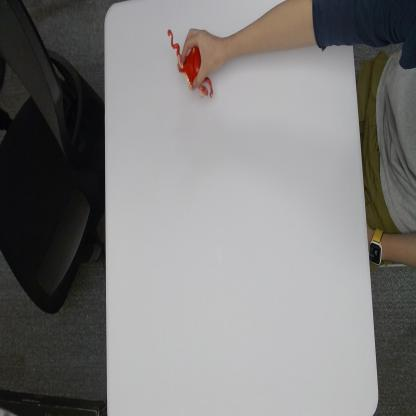Arm: (230, 0, 364, 62)
Hand: (180, 26, 230, 91)
Octopus: (166, 27, 214, 100)
